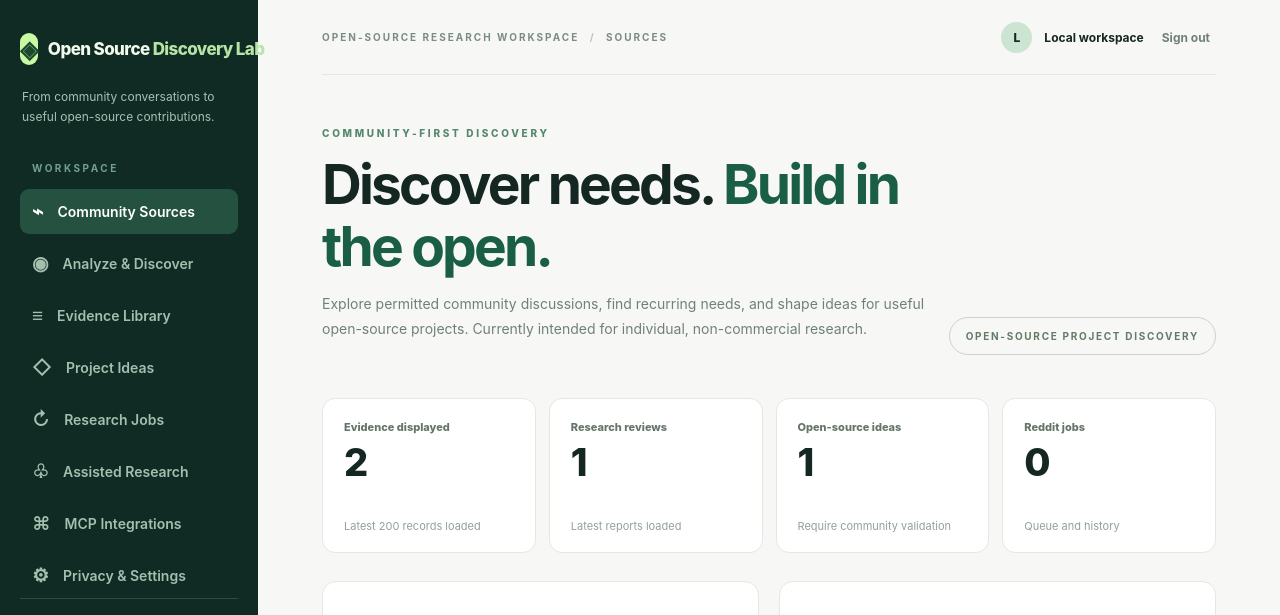
Test case: manual opportunity review › does not render unsafe or expired evidence as a clickable source
Expected: the button "Sign out" is shown, [1156,28,1216,46]
Click the button "◇ Project Ideas": x=129, y=367 [20,345,238,390]
(page scrolled)
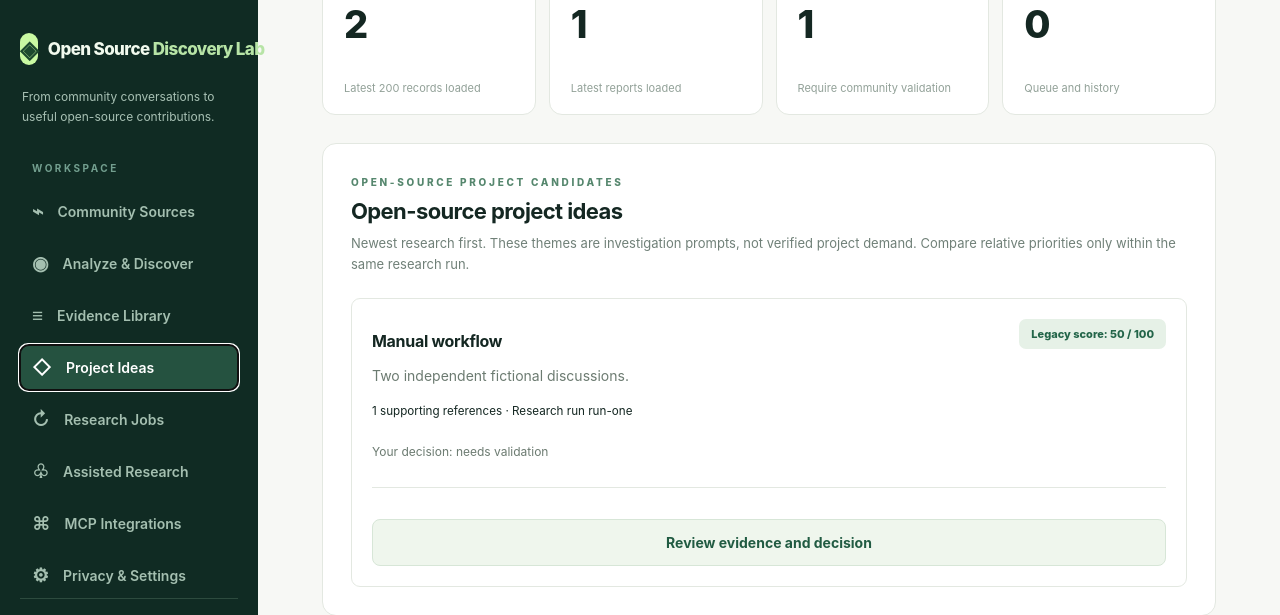
Click the button "Review evidence and decision": x=769, y=543 [372,520,1166,566]
(page scrolled)
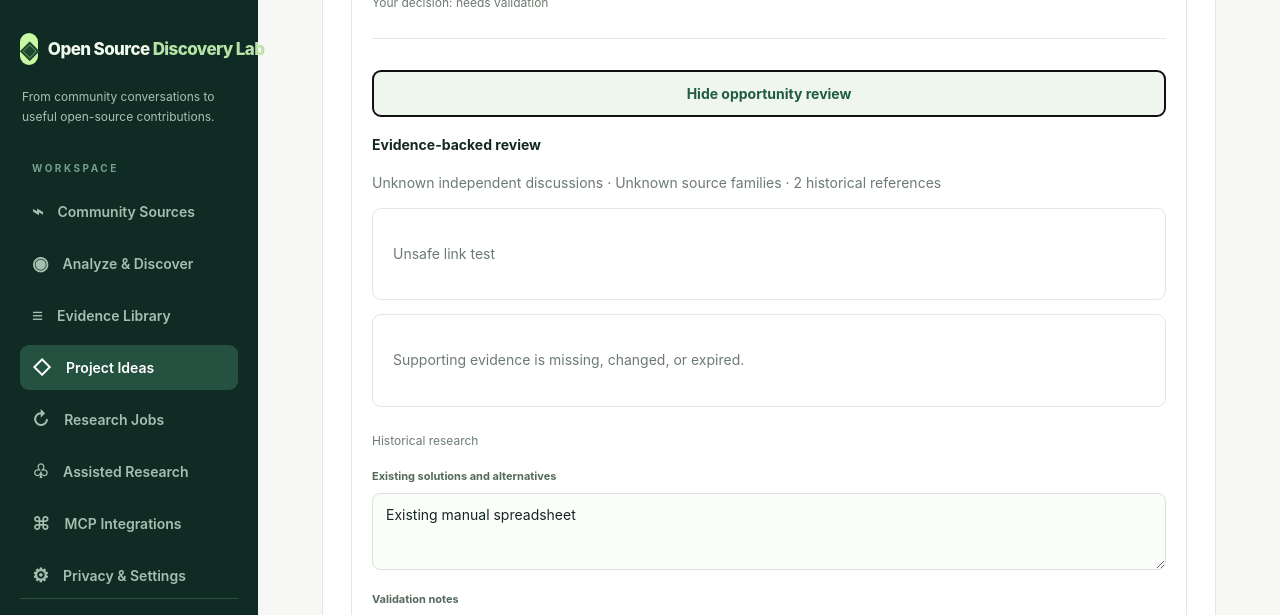
Expected: the text "Unsafe link test" is shown, [393,245,495,262]
Expected: the text "Supporting evidence is missing, changed, or expired." is shown, [393,352,744,368]
